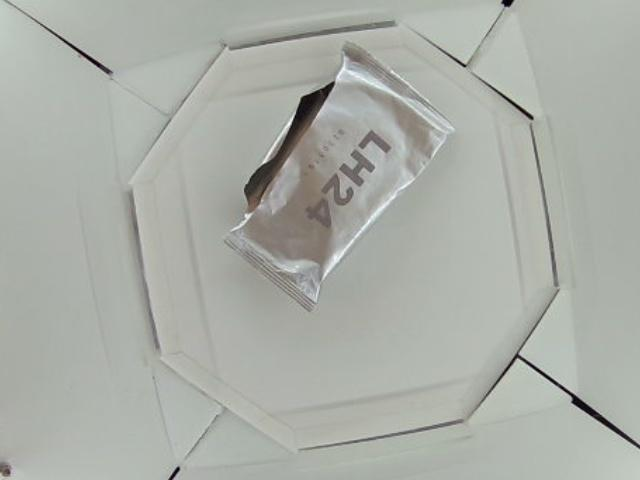Medicine: (224, 37, 456, 315)
